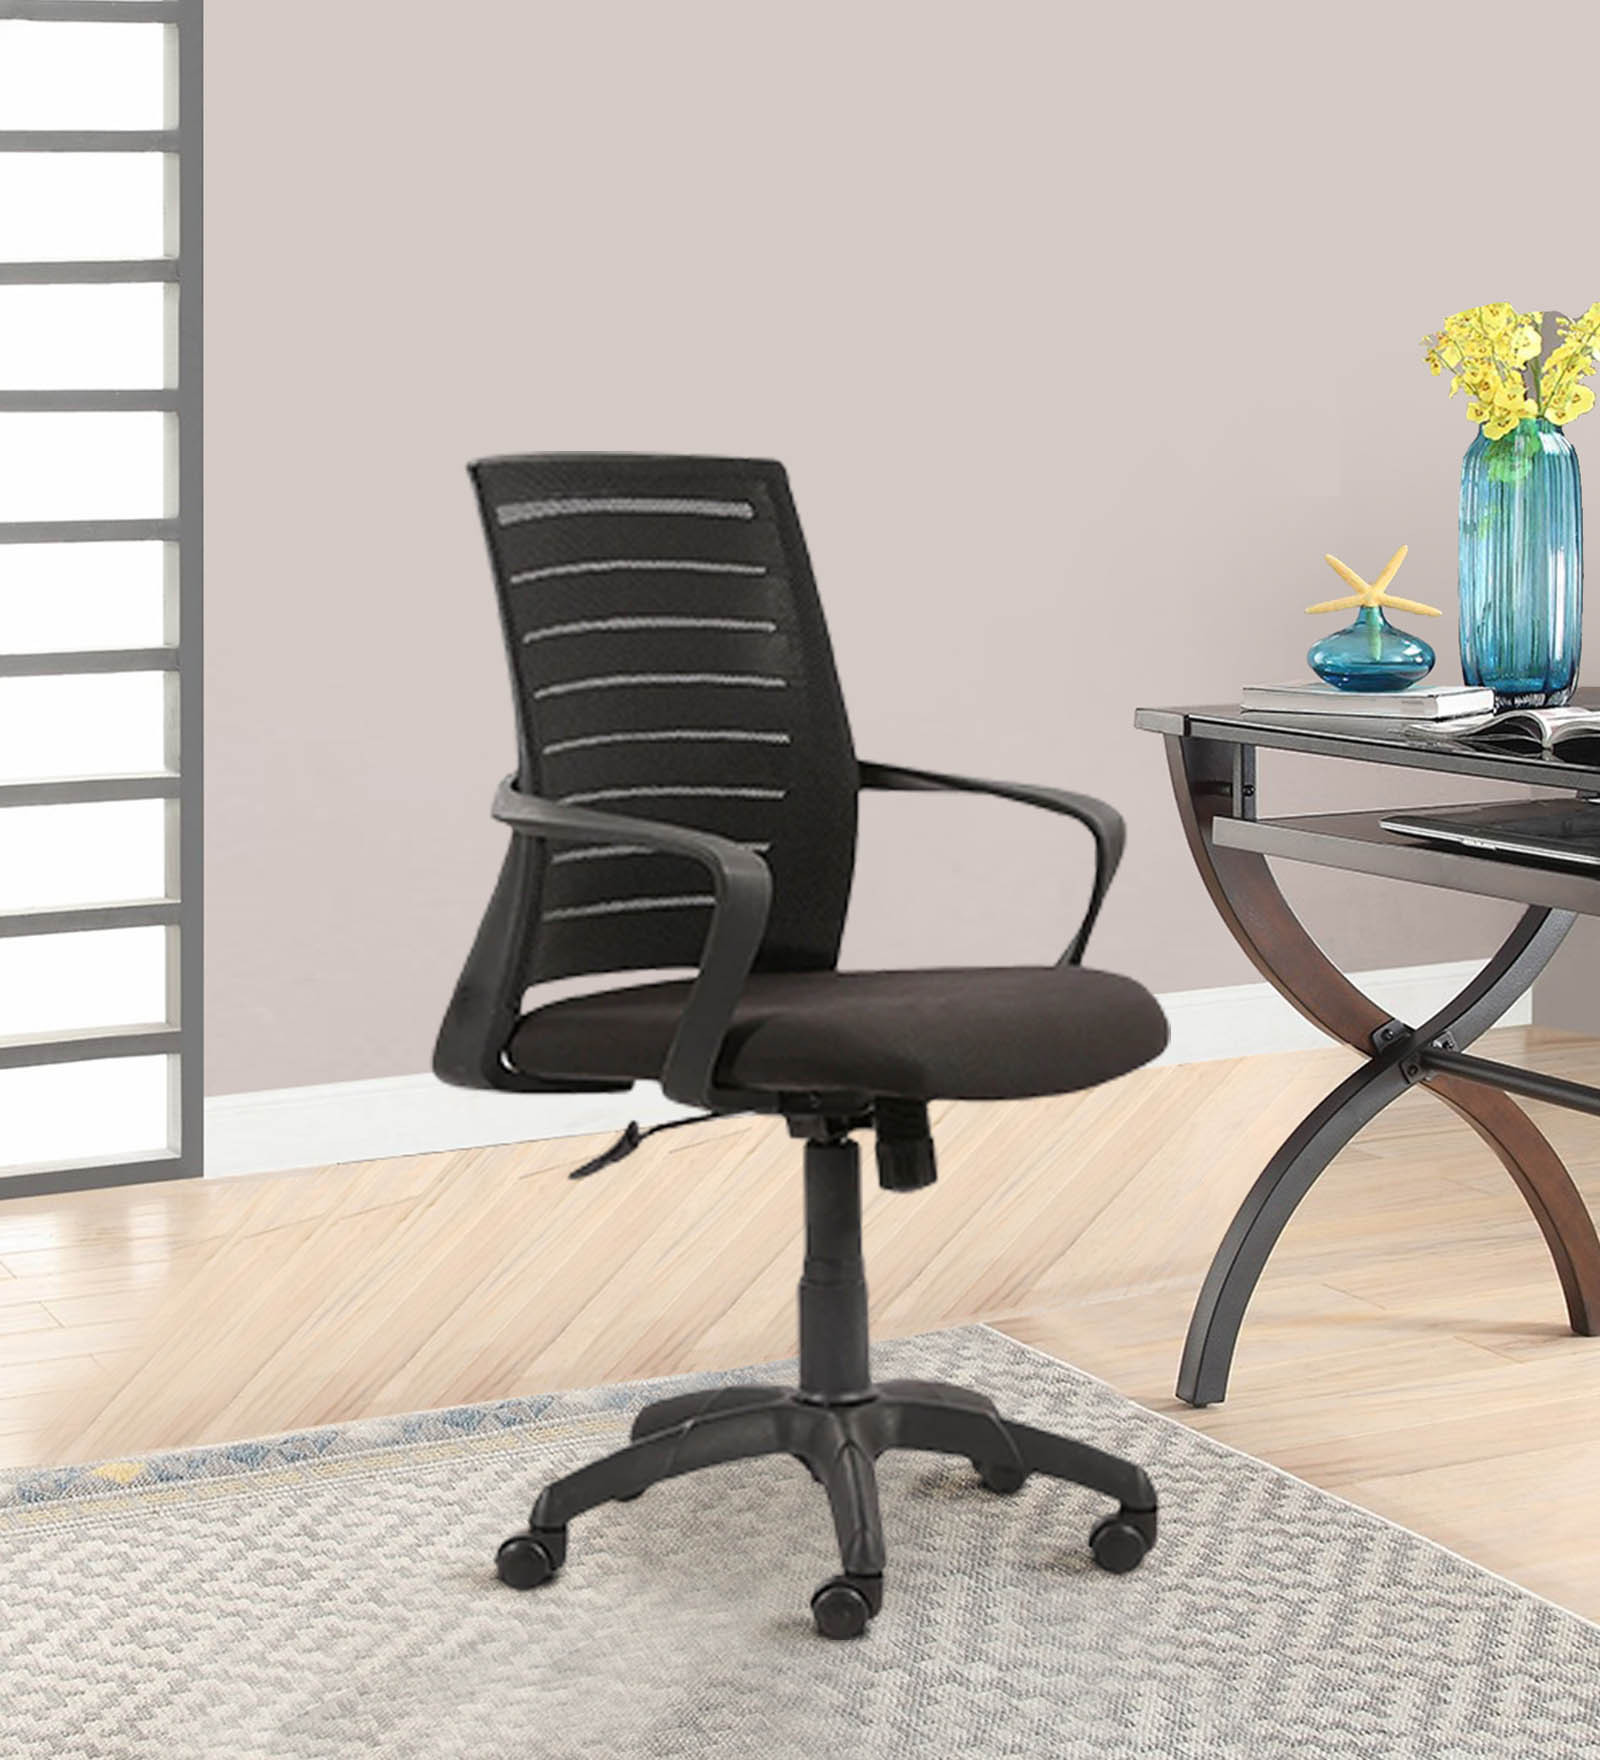Ergonomic Chair in Black Colour by Parin: (360, 423, 1255, 1670)
